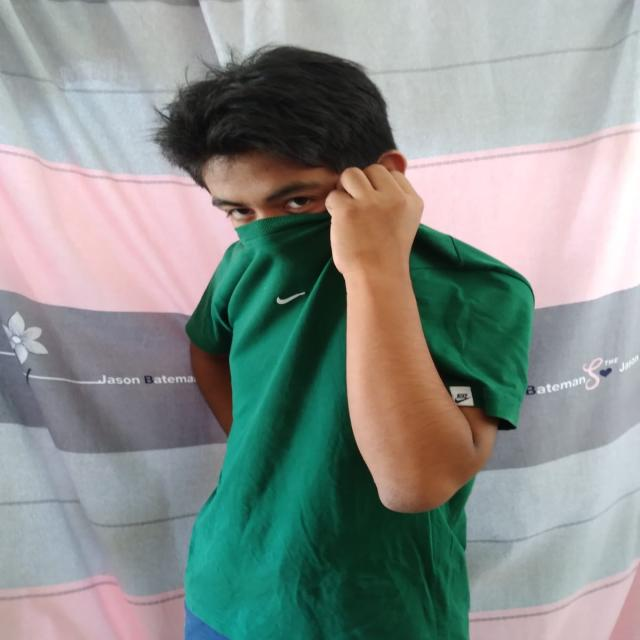8_ropa_rostro: (222, 168, 420, 328)
